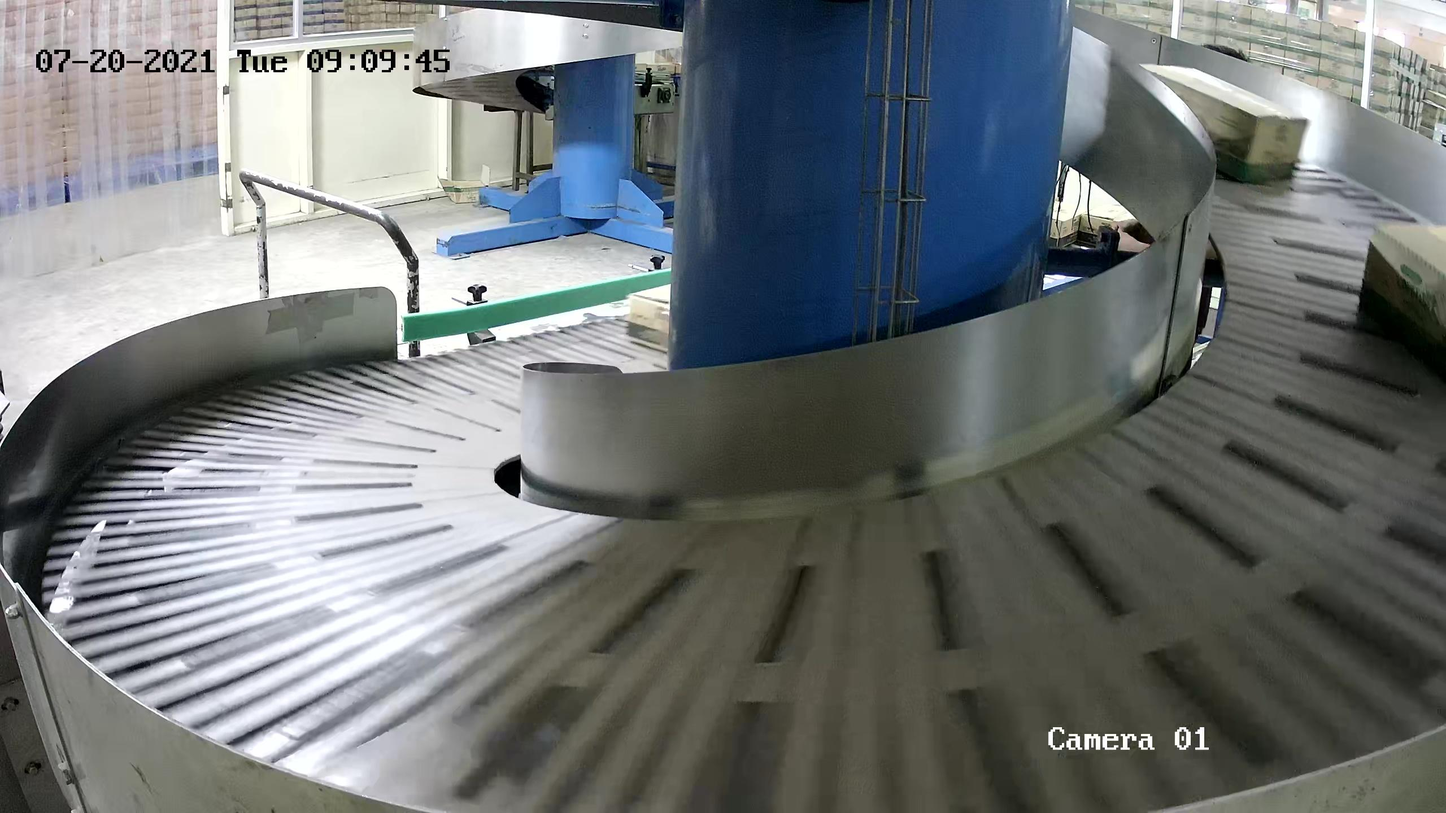Box: (1137, 62, 1311, 184), (1358, 221, 1446, 386), (625, 283, 671, 353)
